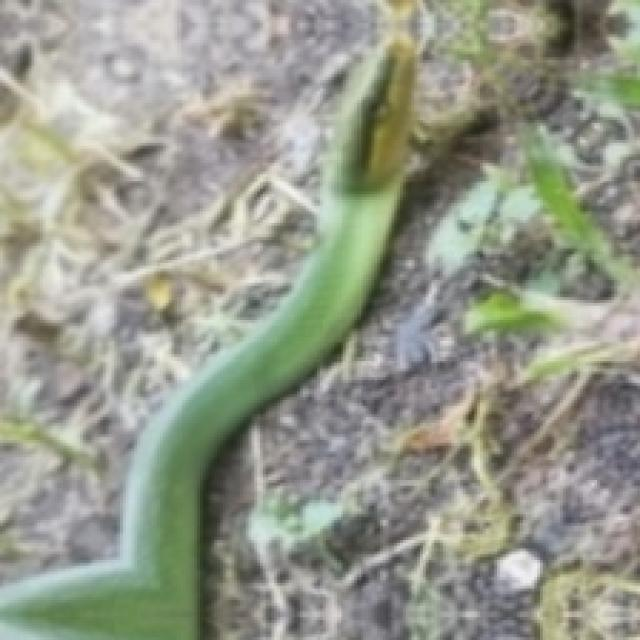red-tailed green ratsnake: (0, 0, 411, 637)
